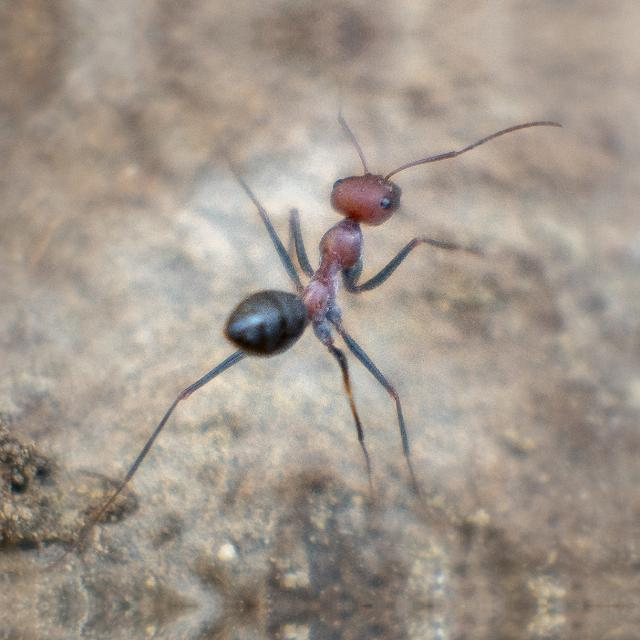Cataglyphis: (180, 108, 472, 410)
